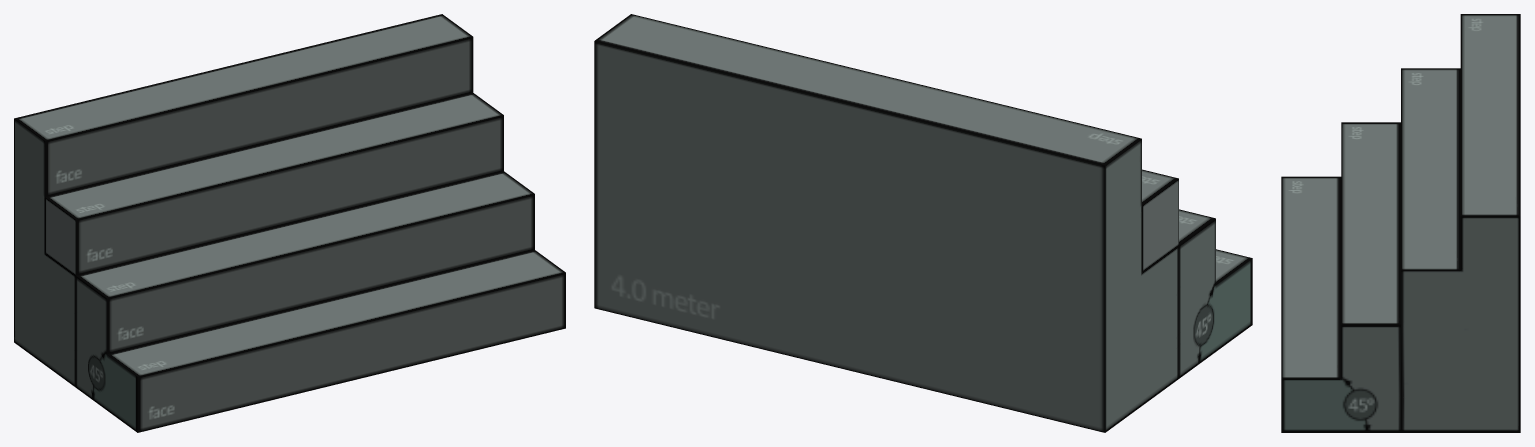
Rendered from Stairs_45_02.fbx.
3 renders of one model, left to right at view 1: azimuth 30°, elevation 25°; view 2: azimuth 150°, elevation 25°; view 3: azimuth 270°, elevation 25°, orthographic. The views are drawn at different scales.
Visible parts, largest first — view 1: Stairs_45_02; view 2: Stairs_45_02; view 3: Stairs_45_02.
Boxes of the visible parts, <box> form: Stairs_45_02: <box>14,14,565,432</box>; Stairs_45_02: <box>594,14,1252,432</box>; Stairs_45_02: <box>1281,14,1520,432</box>.
Bounding box in the file's own units: 4 × 2 × 2.
